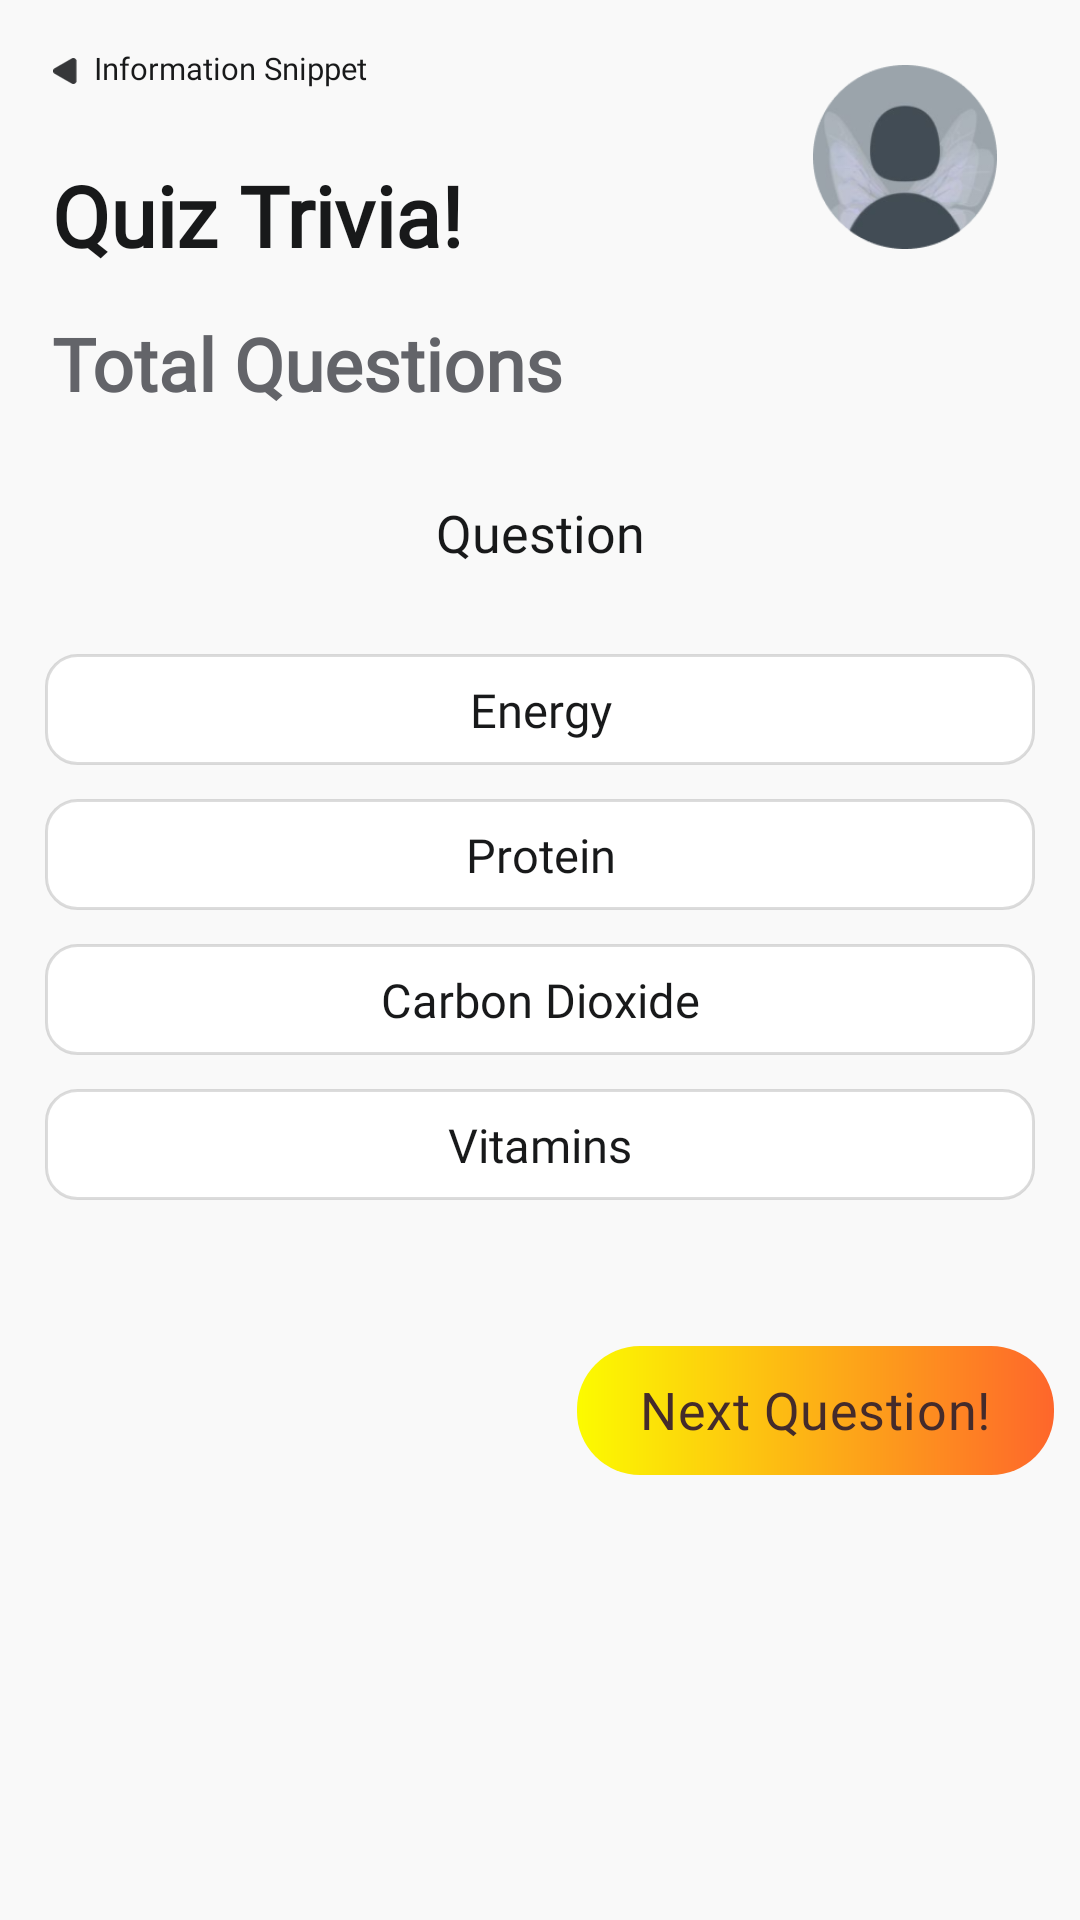

Icon bounding boxes for this 1080px×1920px phone screenshot, format (x1, y1, x2, y2):
arrowleft: (53, 58, 77, 84)
profilepic: (813, 65, 997, 249)
